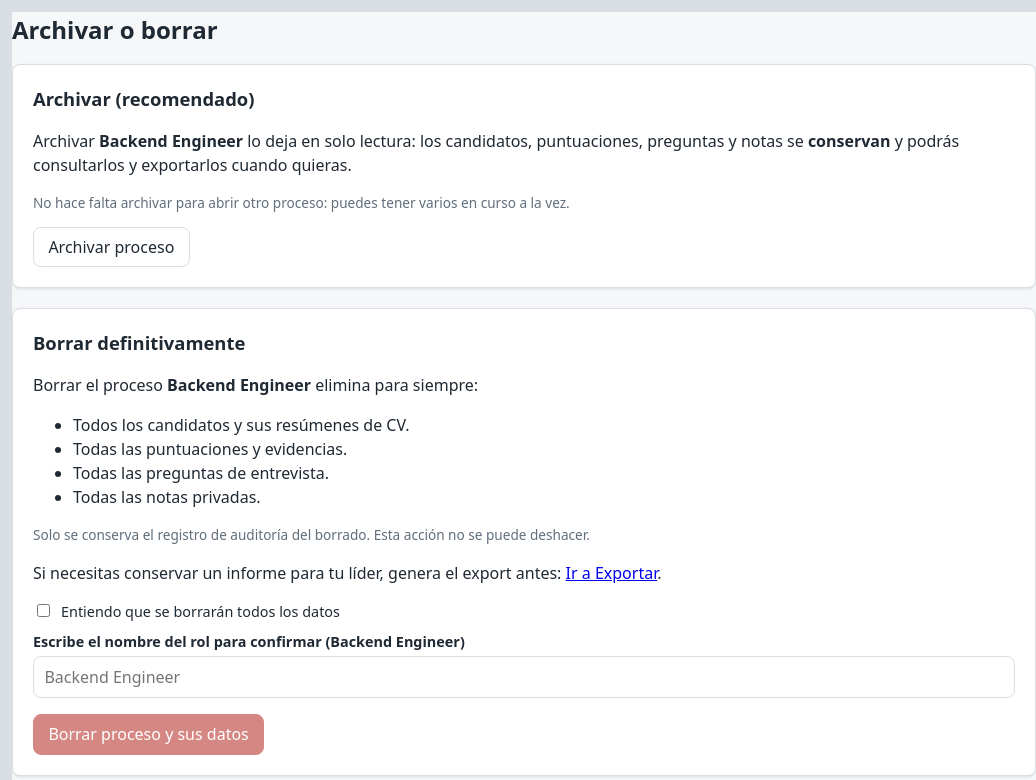
Test: ClosePage — archivar › archivar no pide confirmación y no manda confirmDelete
The image size is (1036, 780).
Click the button "Archivar proceso" at (111, 247), box 33,227 -> 190,267
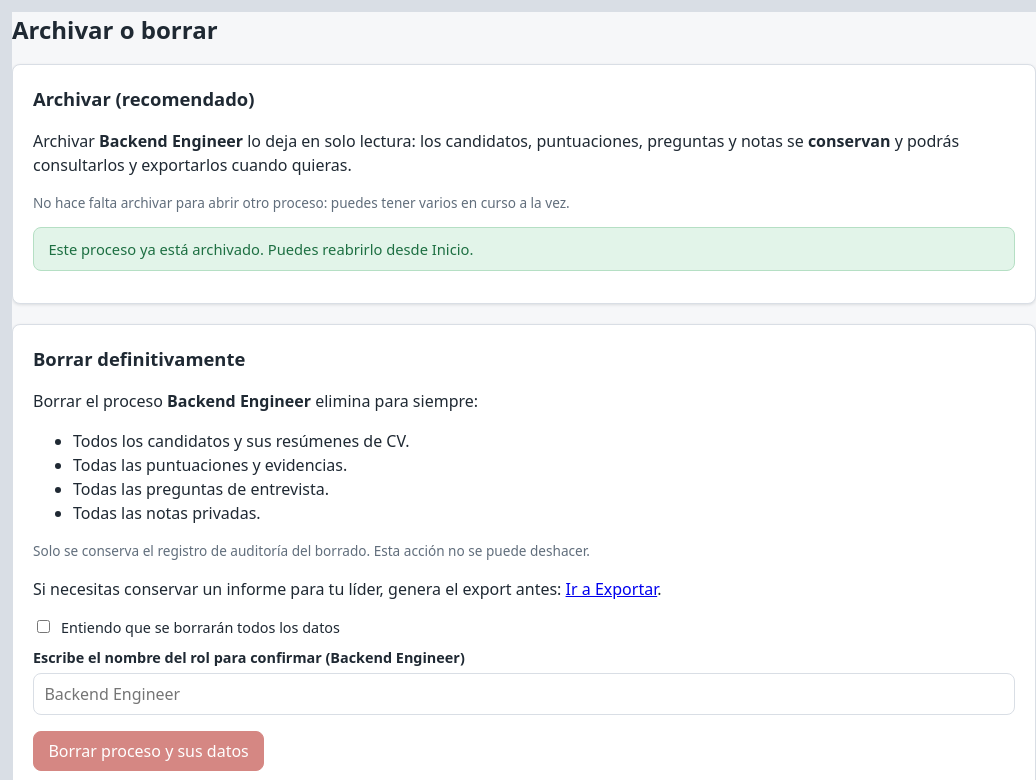
Result: the text "ya está archivado" is shown at 48,239 -> 473,259
